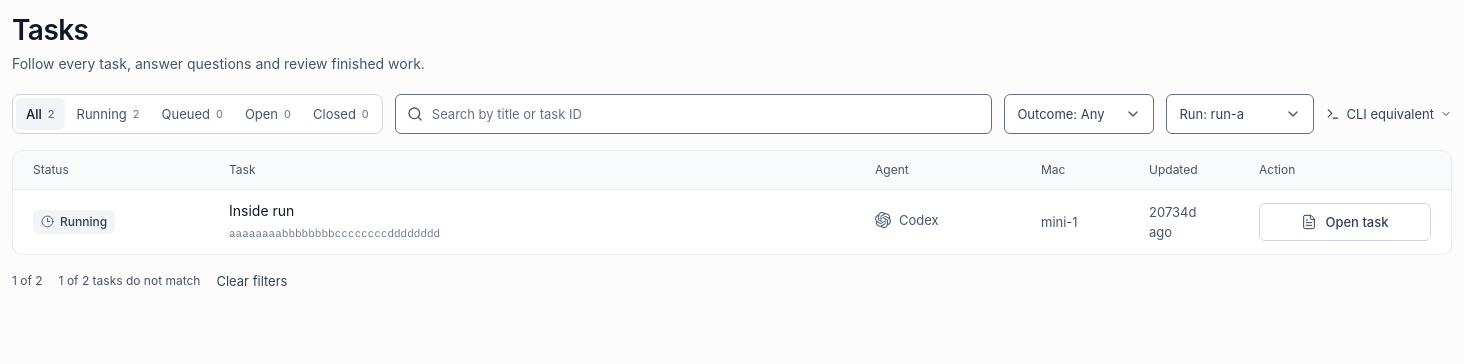
Test: opens the requested run and allows clearing its filter
Expected: the button "Inside run" is shown, [229, 201, 294, 221]
Expected: the text "Outside run" is not shown
Click the button "Clear filters" at (252, 280), box [216, 270, 288, 290]
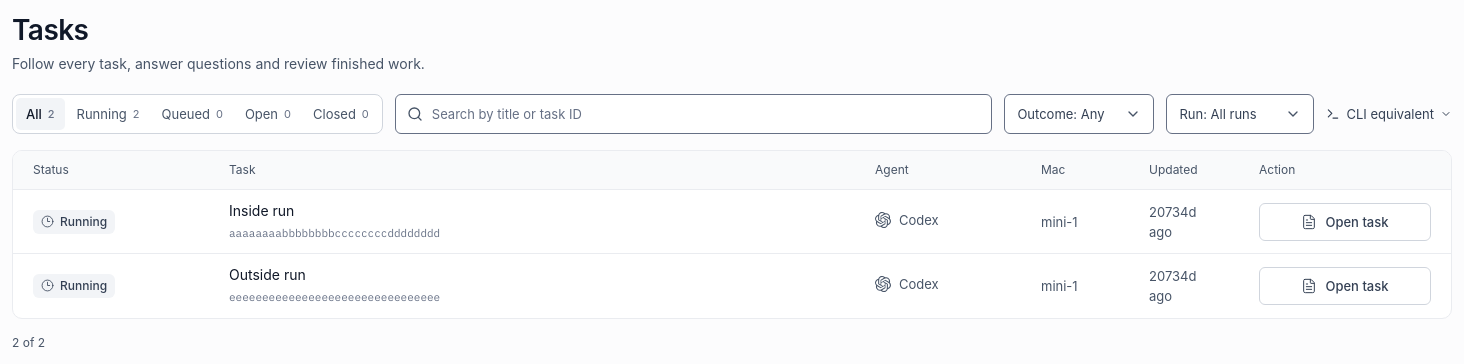
Result: the button "Outside run" is shown at [229, 265, 306, 285]
